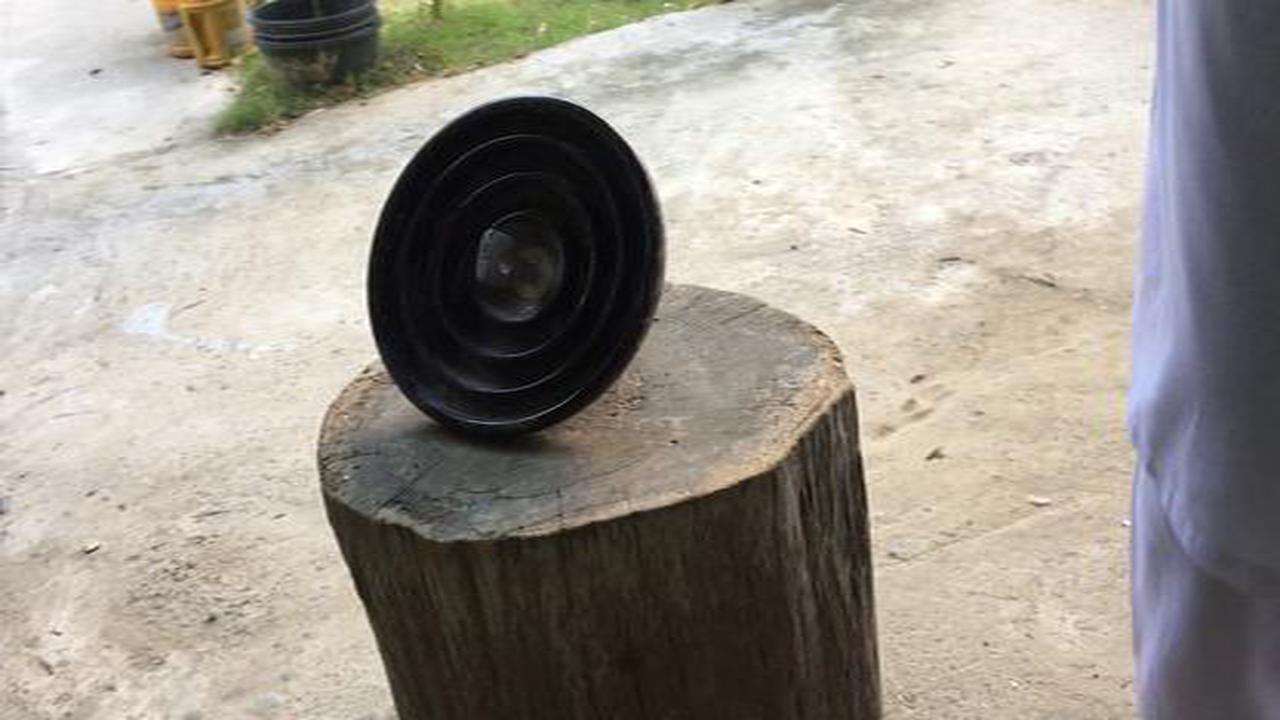insulator_disc: (363, 95, 671, 450)
